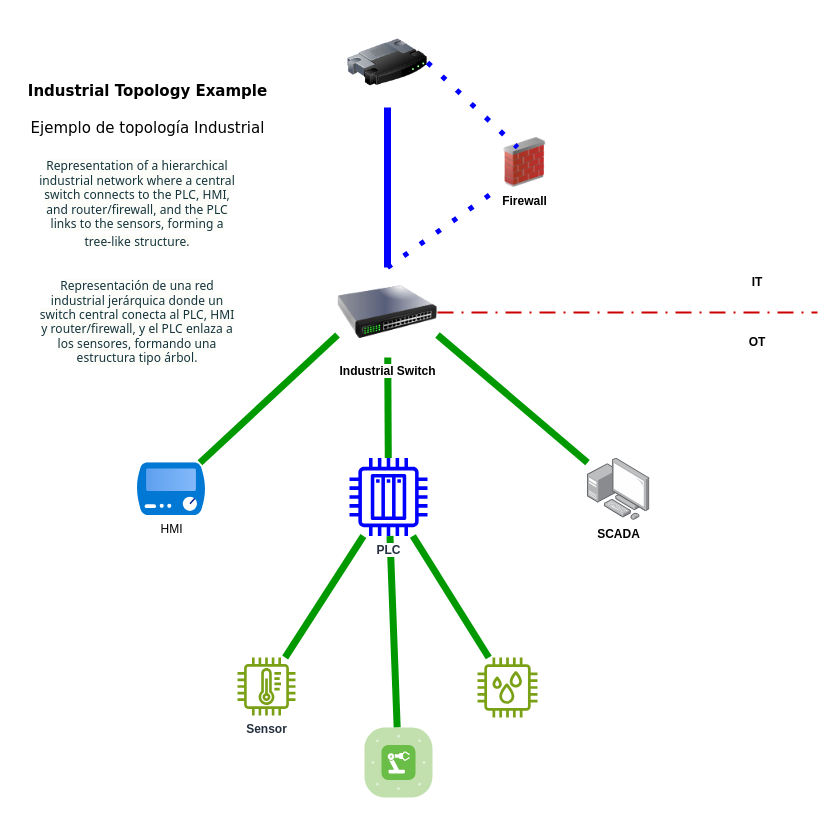
This 836x835 diagram has some shape labels left out. The box of each missing label's shape, as (x1, y1, x2, y2) in pixels:
Actuators: (364, 726, 432, 798)
Router: (347, 17, 427, 107)
Sersor: (477, 657, 537, 717)
